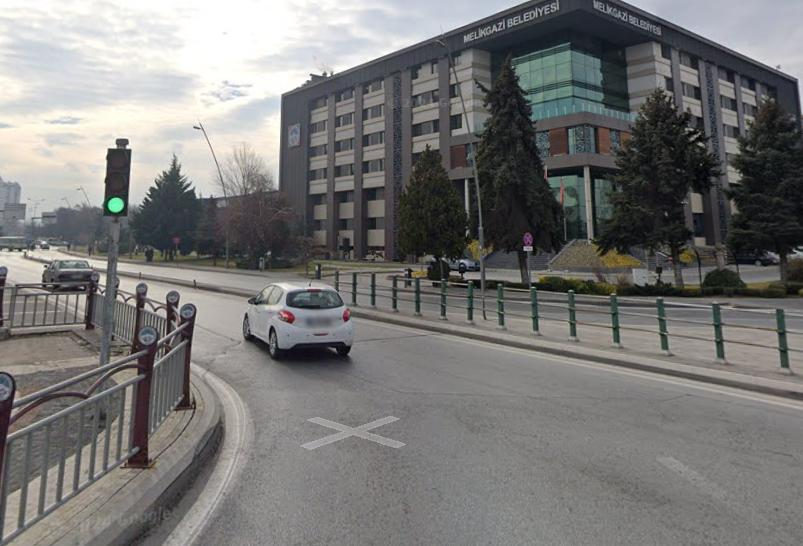greenlight: (106, 148, 132, 220)
